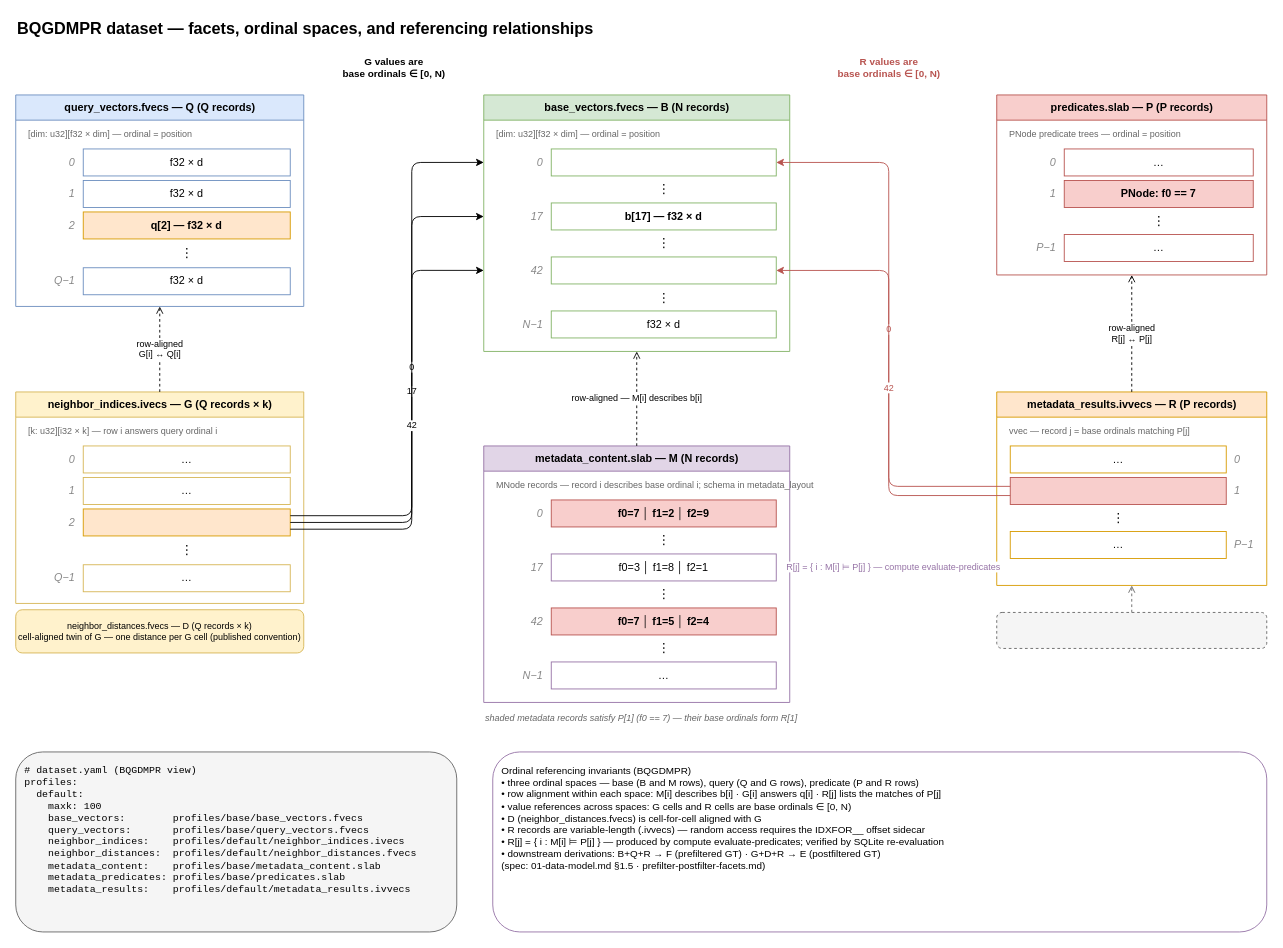
The diagram is 1283 pixels wide and 948 high, and some of its shapes have lost their labels. The shapes that lost their labels are listed below. From the top down, each one's centre as x and y in pixels, then its label:
At (x=663, y=162): "b[0] — f32 × d".
At (x=663, y=270): "b[42] — f32 × d".
At (x=1117, y=490): "0 │ 42 │ … (n₁ values)".
At (x=186, y=522): "17 │ 0 │ 42 │ … (×k)".
At (x=1131, y=630): "IDXFOR__metadata_results.ivvecs.i32 — offset sidecar for random access".
